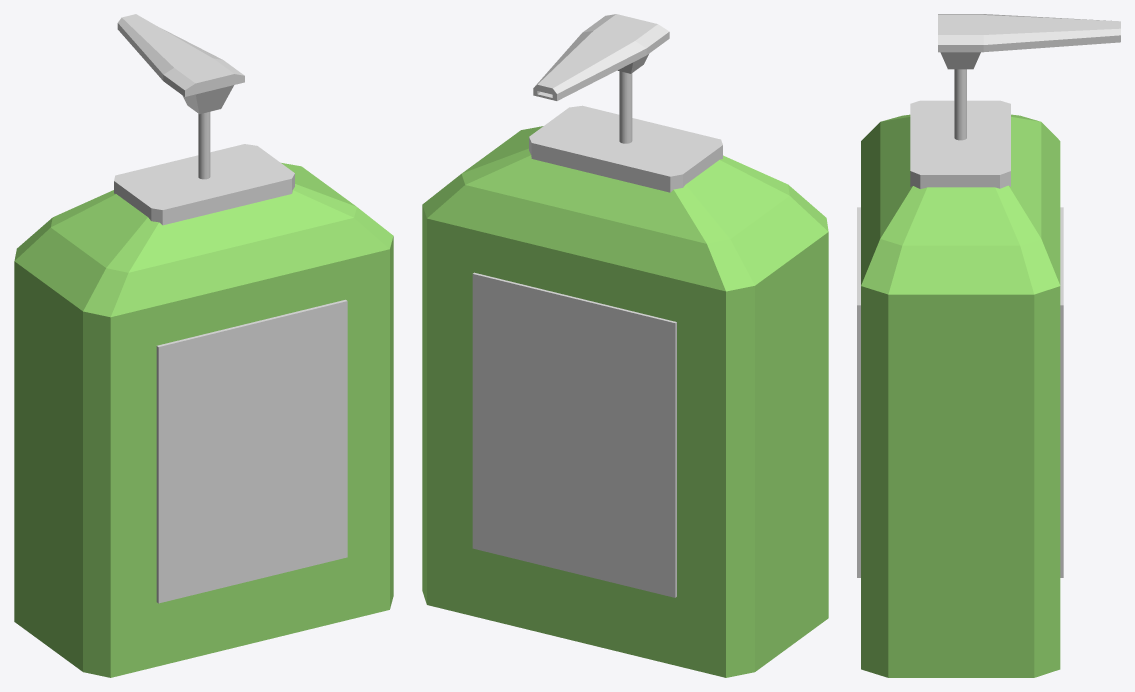
The model's file is sabun.fbx.
The picture shows the model from 3 angles, left to right: view 1: azimuth 30°, elevation 25°; view 2: azimuth 150°, elevation 25°; view 3: azimuth 270°, elevation 25°; orthographic projection. The views are drawn at different scales.
Visible parts, largest first — view 1: Cube, Cube.004, Cube.001, Cube.002, Cylinder; view 2: Cube, Cube.003, Cube.001, Cube.002, Cylinder; view 3: Cube, Cube.001, Cube.002, Cube.003, Cube.004, Cylinder.
Part boxes in pixels (x1,y1,x2,y2): Cube: (14,163,393,677); Cube.004: (156,299,347,603); Cube.001: (114,144,294,225); Cube.002: (117,14,244,114); Cylinder: (198,112,210,179); Cube: (422,126,828,677); Cube.003: (472,272,676,597); Cube.001: (529,105,722,192); Cube.002: (533,14,669,100); Cylinder: (619,71,632,143); Cube: (861,114,1060,677); Cube.001: (910,100,1010,189); Cube.002: (938,14,1120,69); Cube.003: (1060,207,1063,577); Cube.004: (857,207,860,577); Cylinder: (954,69,966,140).
Bounding box in the file's own units: 328 × 544 × 227.
